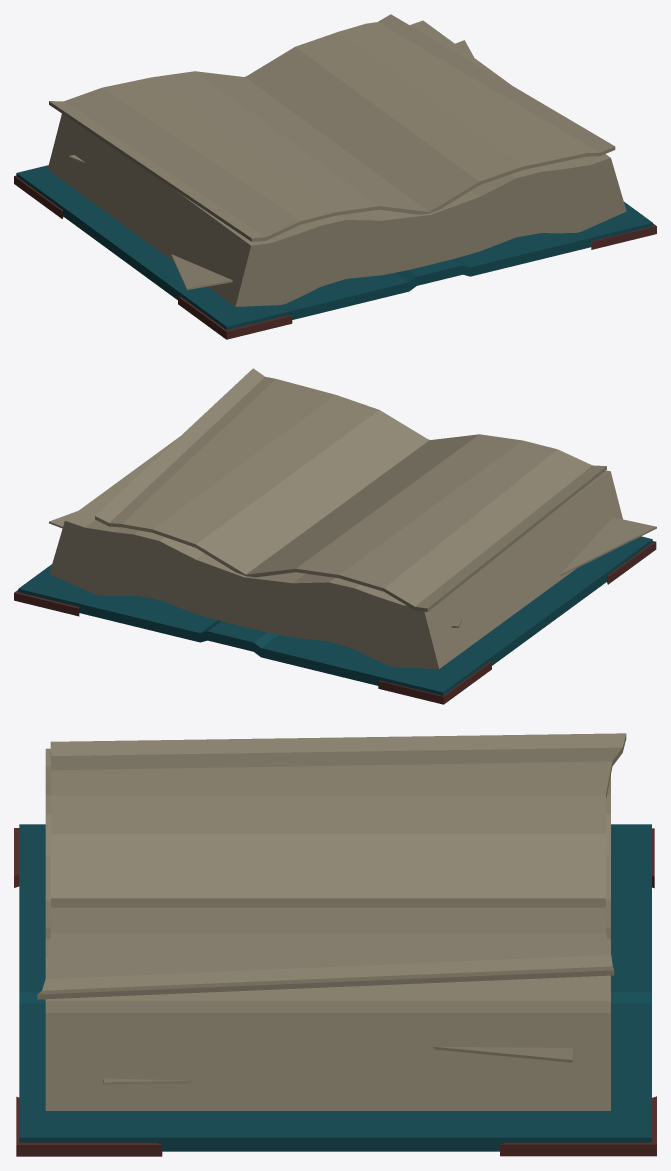
File: Book4_Open.glb
3 views of the same model, one above another, from view 1: azimuth 30°, elevation 25°; view 2: azimuth 150°, elevation 25°; view 3: azimuth 270°, elevation 25° (orthographic). The views are drawn at different scales.
Visible parts, largest first — view 1: Book4_Open_Cube.119; view 2: Book4_Open_Cube.119; view 3: Book4_Open_Cube.119.
Boxes of the visible parts, <box> form: Book4_Open_Cube.119: <box>14,14,656,339</box>; Book4_Open_Cube.119: <box>14,368,656,704</box>; Book4_Open_Cube.119: <box>14,733,656,1156</box>.
Bounding box in the file's own units: 0.9176 × 0.1764 × 0.752.
